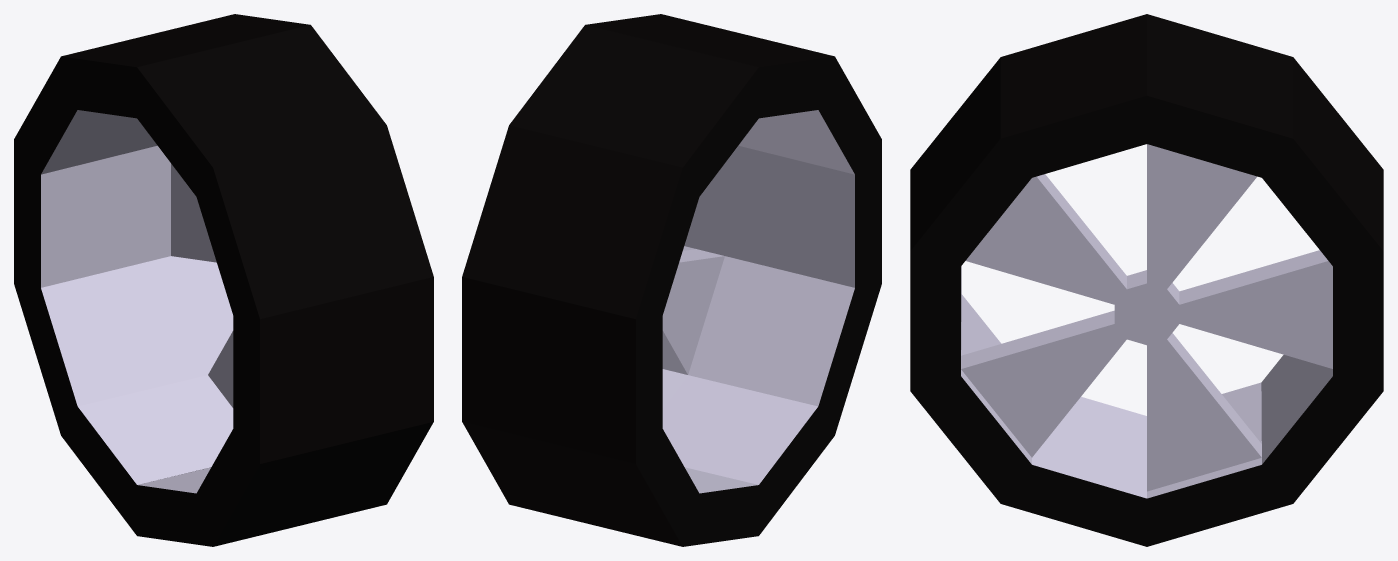
The model's file is wheel.fbx.
3 views of the same model, side by side, from view 1: azimuth 30°, elevation 25°; view 2: azimuth 150°, elevation 25°; view 3: azimuth 270°, elevation 25° (orthographic). The views are drawn at different scales.
Visible parts, largest first — view 1: wheel; view 2: wheel; view 3: wheel.
Part boxes in pixels (bbox=[...]): wheel: bbox=[14, 14, 433, 546]; wheel: bbox=[462, 14, 881, 546]; wheel: bbox=[910, 14, 1383, 546].
Bounding box in the file's own units: 0.3187 × 0.8212 × 0.781.
